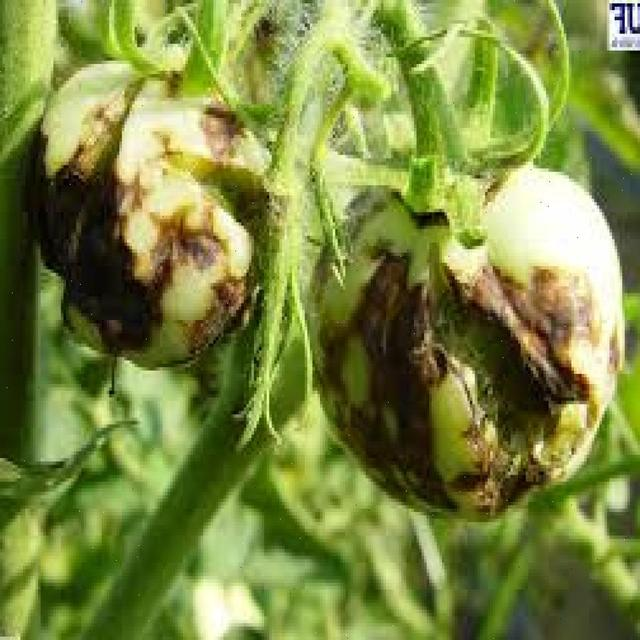Spotted wilt Virus Fruit: (98, 126, 322, 212)
